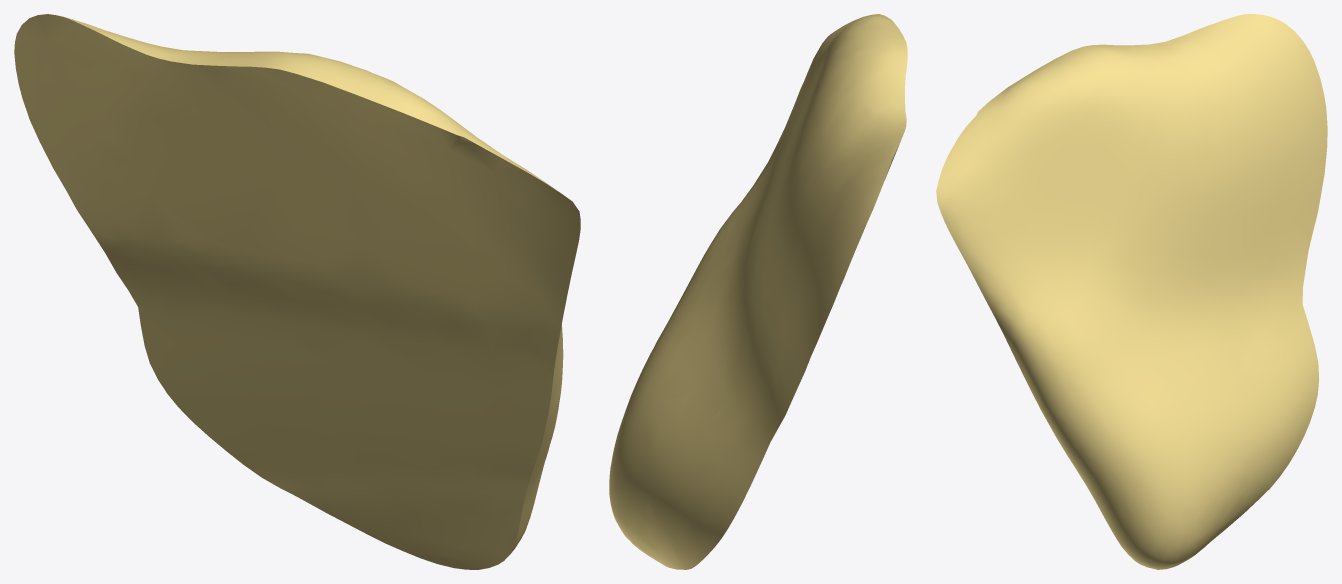
The model's file is fma76845-r_mm2746m.glb.
3 views of the same model, side by side, from view 1: azimuth 30°, elevation 25°; view 2: azimuth 150°, elevation 25°; view 3: azimuth 270°, elevation 25° (orthographic). The views are drawn at different scales.
Parts seen in each view (by area): view 1: FMA76845-R_MM2746M; view 2: FMA76845-R_MM2746M; view 3: FMA76845-R_MM2746M.
Boxes of the visible parts, left/top/right/bottom form: FMA76845-R_MM2746M: left=14, top=14, right=580, bottom=569; FMA76845-R_MM2746M: left=609, top=14, right=907, bottom=569; FMA76845-R_MM2746M: left=936, top=14, right=1327, bottom=569.
Size of the model in its own units: 0.00904 by 0.0129 by 0.0104.
